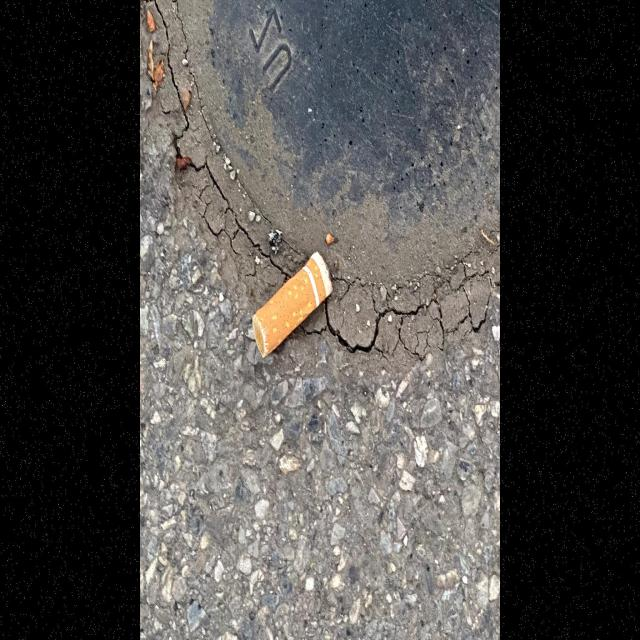other waste: (251, 250, 335, 359)
